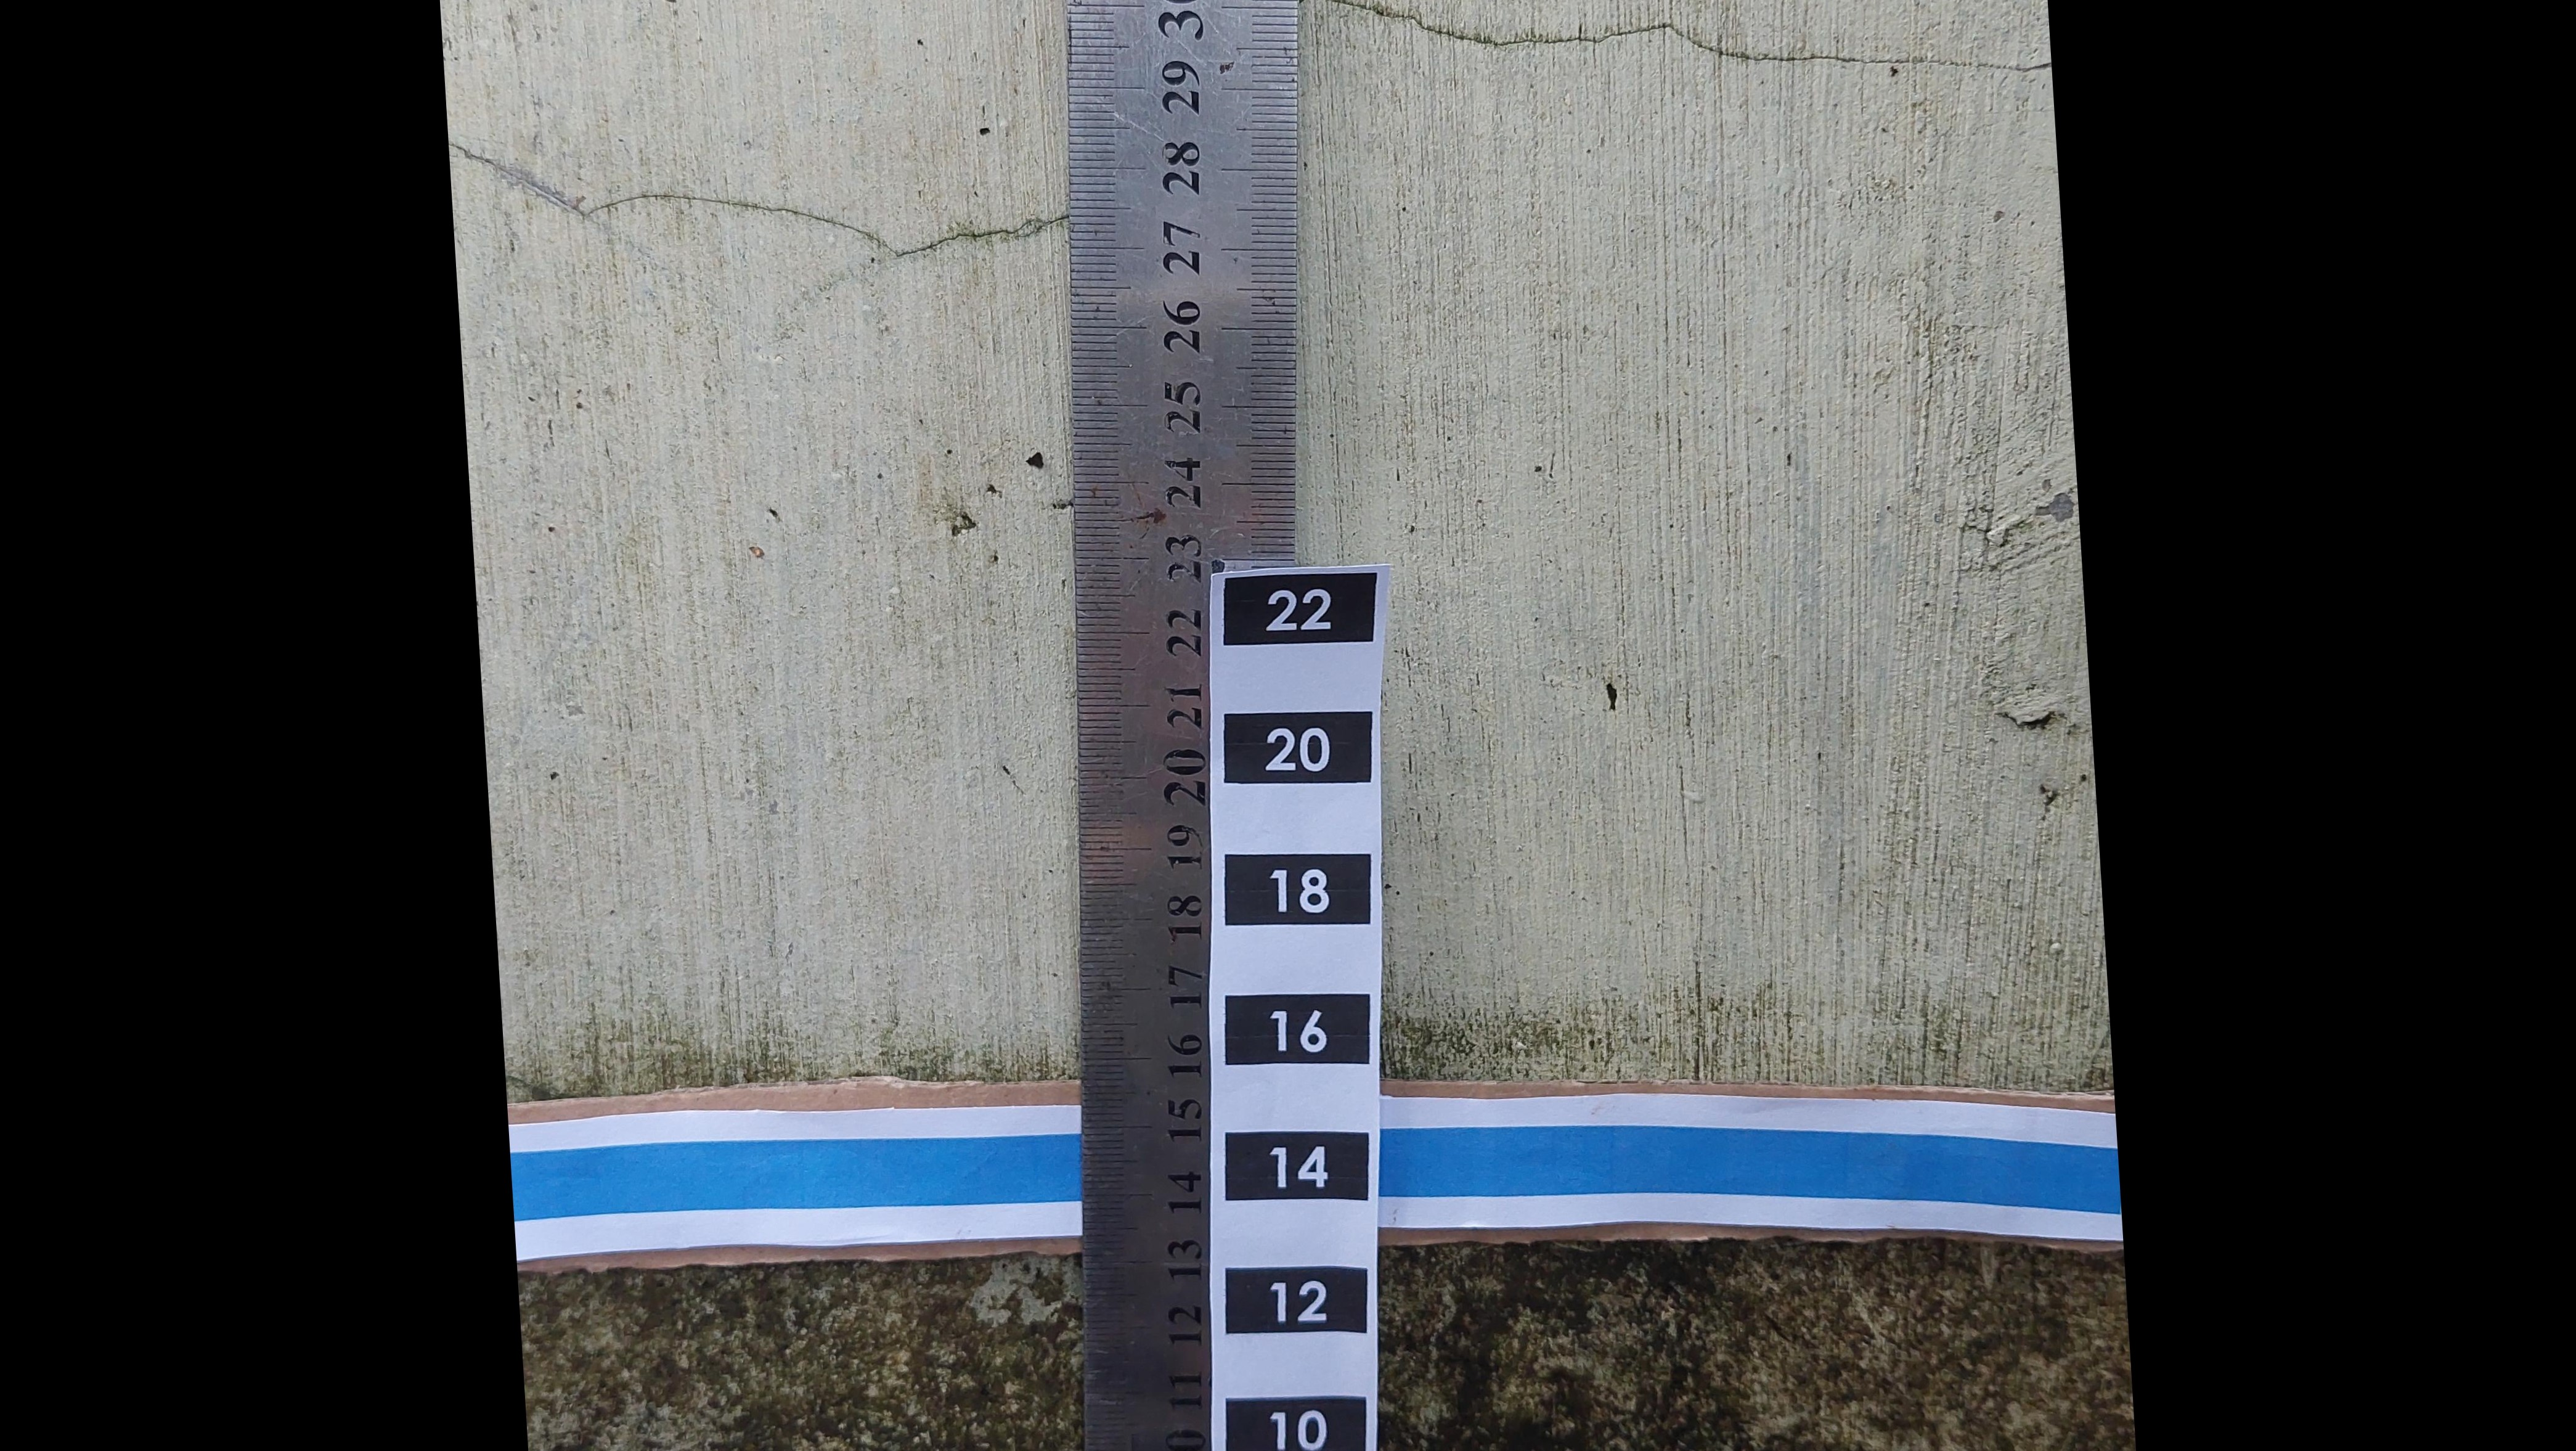kotak_2x1: (1224, 573, 1371, 646), (1224, 711, 1373, 782), (1224, 855, 1373, 925), (1230, 994, 1369, 1065), (1224, 1271, 1368, 1334), (1228, 1132, 1369, 1196)
